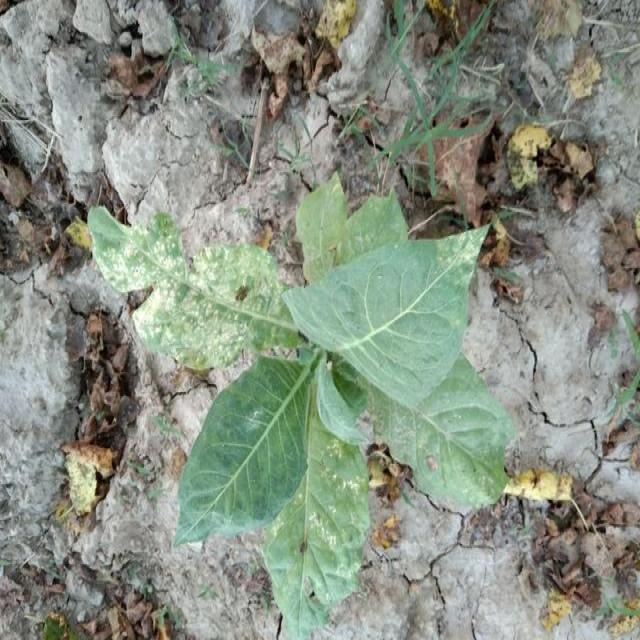crop: (78, 184, 516, 619)
